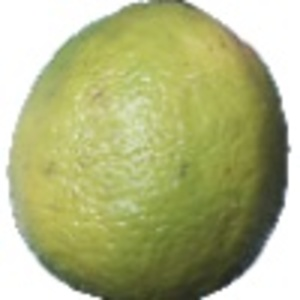limão: (6, 1, 288, 300)
